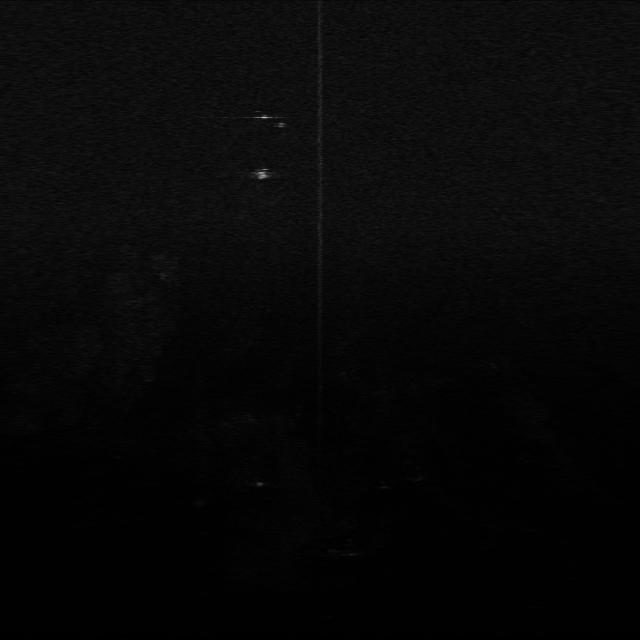rov: (253, 166, 273, 184)
